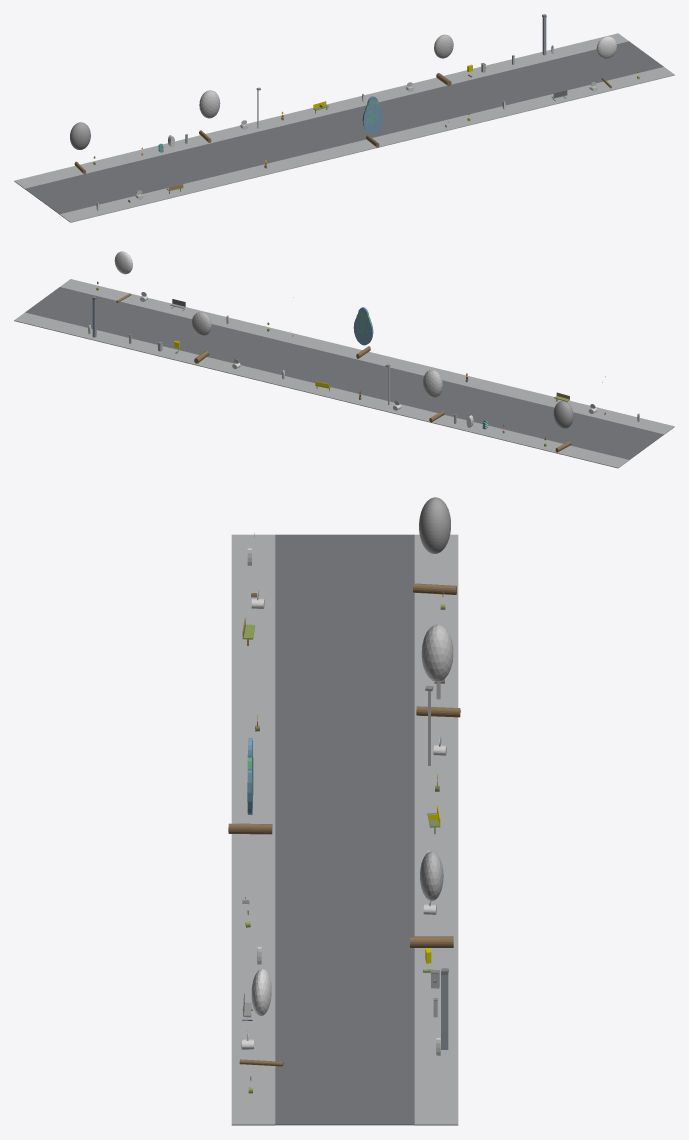
3 views of the same model, one above another, from view 1: azimuth 30°, elevation 25°; view 2: azimuth 150°, elevation 25°; view 3: azimuth 270°, elevation 25° (orthographic). The views are drawn at different scales.
Visible parts, largest first — view 1: road_slab, sidewalk_left, sidewalk_right, inst_0014, inst_0013, inst_0012, inst_0015, inst_0016; view 2: road_slab, sidewalk_right, sidewalk_left, inst_0014, inst_0013, inst_0012, inst_0015, inst_0016; view 3: road_slab, sidewalk_left, sidewalk_right, inst_0012, inst_0013, inst_0015, inst_0016, inst_0014.
Boxes of the visible parts, bbox=[...] form: road_slab: bbox=[25, 41, 663, 214]; sidewalk_left: bbox=[59, 67, 674, 222]; sidewalk_right: bbox=[14, 33, 628, 188]; inst_0014: bbox=[362, 96, 382, 147]; inst_0013: bbox=[199, 90, 220, 142]; inst_0012: bbox=[70, 122, 90, 174]; inst_0015: bbox=[434, 34, 453, 86]; inst_0016: bbox=[596, 36, 616, 88]; road_slab: bbox=[25, 287, 663, 459]; sidewalk_right: bbox=[14, 312, 629, 468]; sidewalk_left: bbox=[60, 279, 674, 434]; inst_0014: bbox=[353, 307, 373, 358]; inst_0013: bbox=[423, 369, 444, 422]; inst_0012: bbox=[553, 401, 573, 452]; inst_0015: bbox=[192, 312, 211, 363]; inst_0016: bbox=[114, 251, 132, 302]; road_slab: bbox=[275, 534, 414, 1125]; sidewalk_left: bbox=[231, 534, 275, 1125]; sidewalk_right: bbox=[414, 534, 458, 1125]; inst_0012: bbox=[413, 497, 456, 594]; inst_0013: bbox=[416, 624, 460, 717]; inst_0015: bbox=[410, 851, 453, 947]; inst_0016: bbox=[239, 968, 283, 1066]; inst_0014: bbox=[228, 738, 272, 834].
Bounding box in the file's own units: 80 × 6.08 × 13.3.
